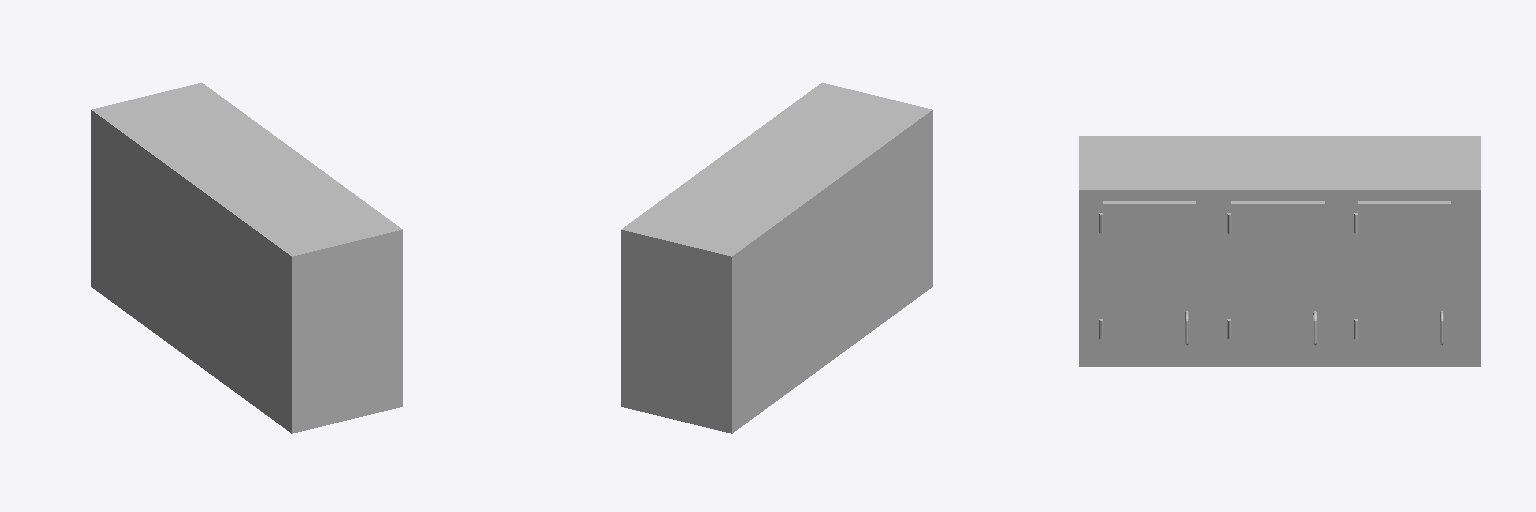
File: UpperCabinets.obj
3 views of the same model, side by side, from view 1: azimuth 30°, elevation 25°; view 2: azimuth 150°, elevation 25°; view 3: azimuth 270°, elevation 25° (orthographic).
Visible parts, largest first — view 1: UpperCabinets pCube9; view 2: UpperCabinets pCube9; view 3: UpperCabinets pCube9, UpperCabinets transform8, transform9 UpperCabinets, UpperCabinets transform7.
Part boxes in pixels (left/top/right/bottom): UpperCabinets pCube9: left=91, top=83, right=402, bottom=433; UpperCabinets pCube9: left=621, top=83, right=932, bottom=433; UpperCabinets pCube9: left=1079, top=136, right=1480, bottom=366; UpperCabinets transform8: left=1227, top=201, right=1324, bottom=353; transform9 UpperCabinets: left=1354, top=201, right=1450, bottom=353; UpperCabinets transform7: left=1099, top=201, right=1195, bottom=353.
Size of the model in its own units: 2.22 by 2.91 by 5.98.